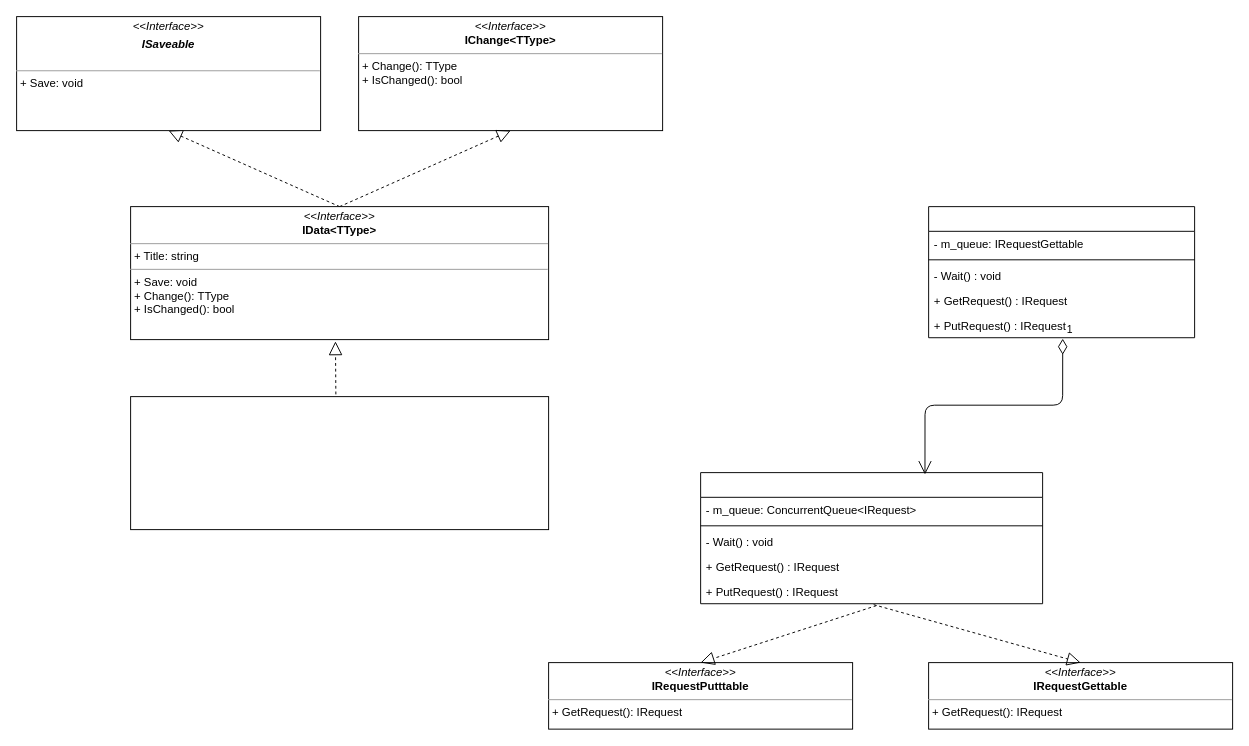
Image size: 1249x746. Some labels were removed from this diagram. Here are the shapes that lost their labels. From the top down, the box of each, then its label:
(928, 206, 1195, 338): ServerQueue
(130, 396, 549, 530): <<Interface>> Data + Save: void + Change(): TType + IsChanged(): bool
(700, 472, 1043, 604): RequestQueue
